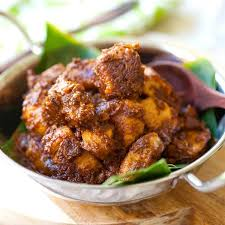rendang: (11, 24, 221, 207)
